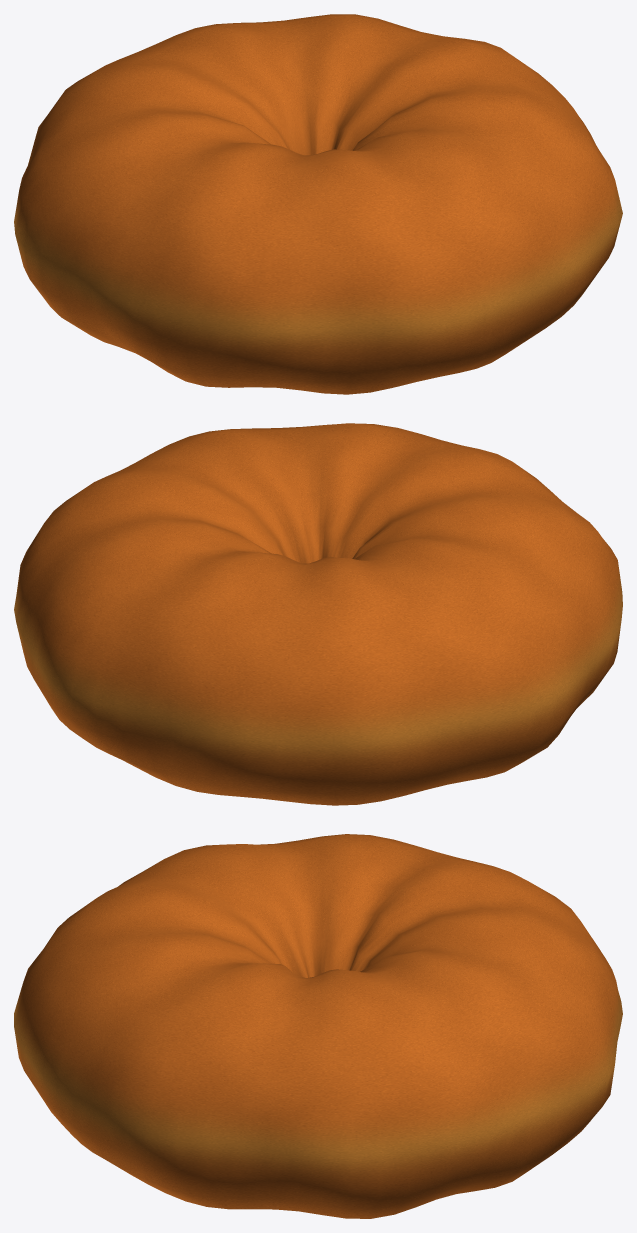
The model's file is MiniDonut.fbx.
The picture shows the model from 3 angles, top to bottom: view 1: azimuth 30°, elevation 25°; view 2: azimuth 150°, elevation 25°; view 3: azimuth 270°, elevation 25°; orthographic projection.
Visible parts, largest first — view 1: MiniDonut_Body; view 2: MiniDonut_Body; view 3: MiniDonut_Body.
Part boxes in pixels (x1,y1,x2,y2): MiniDonut_Body: (14,14,622,394); MiniDonut_Body: (14,423,622,805); MiniDonut_Body: (14,834,622,1218).
Bounding box in the file's own units: 0.0652 × 0.026 × 0.065.
